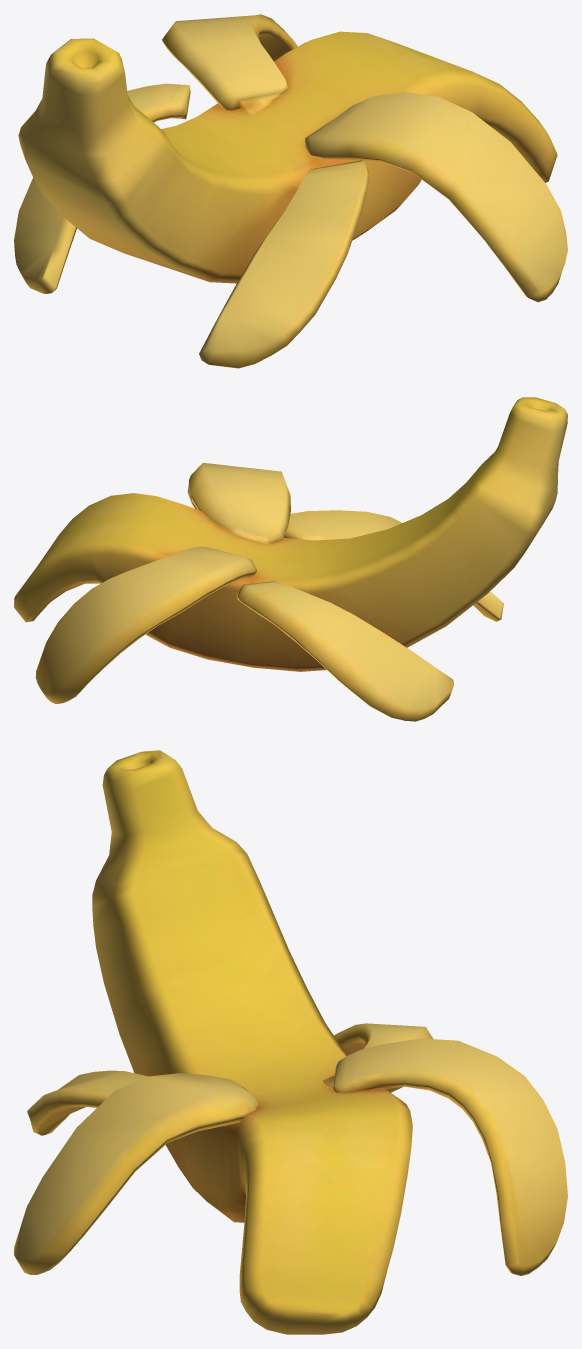
The model's file is skill-banana.glb.
3 views of the same model, one above another, from view 1: azimuth 30°, elevation 25°; view 2: azimuth 150°, elevation 25°; view 3: azimuth 270°, elevation 25° (orthographic). The views are drawn at different scales.
Visible parts, largest first — view 1: tripo_node_3f646c93-7810-418f-a21c-cd5a88aa5d7c; view 2: tripo_node_3f646c93-7810-418f-a21c-cd5a88aa5d7c; view 3: tripo_node_3f646c93-7810-418f-a21c-cd5a88aa5d7c.
Boxes of the visible parts, x1,y1,x2,y2 form: tripo_node_3f646c93-7810-418f-a21c-cd5a88aa5d7c: (14,14,567,368); tripo_node_3f646c93-7810-418f-a21c-cd5a88aa5d7c: (14,397,567,721); tripo_node_3f646c93-7810-418f-a21c-cd5a88aa5d7c: (14,750,567,1334).
Bounding box in the file's own units: 0.998 × 0.5371 × 0.83.
1 material, 1 textured.
